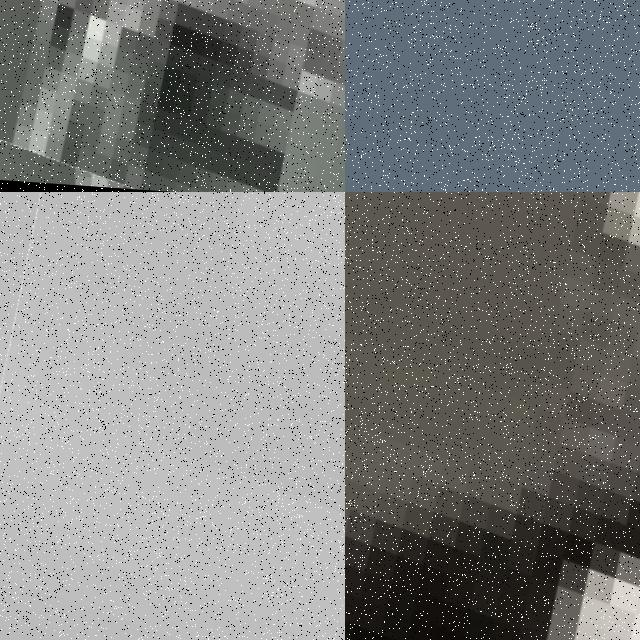drone: (0, 192, 345, 640), (345, 192, 640, 640), (0, 0, 345, 192)
